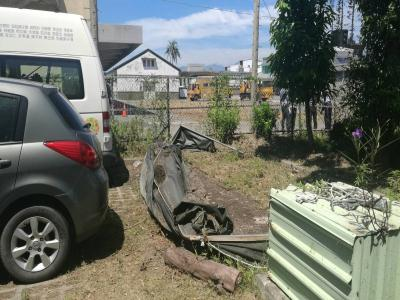plastic_bag: (142, 147, 223, 235)
